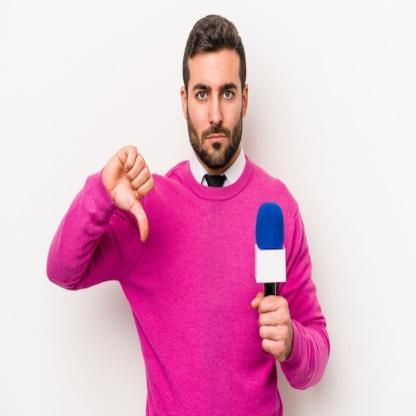thumb_down: (100, 140, 156, 244)
